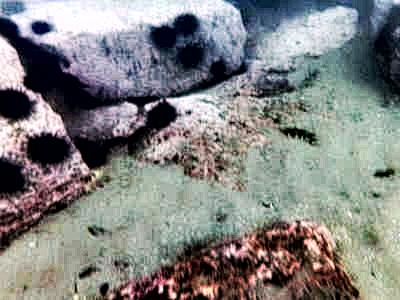urchin: (21, 132, 66, 165), (1, 155, 28, 197), (75, 136, 104, 166), (145, 99, 176, 127), (3, 87, 28, 118), (172, 12, 198, 38), (178, 45, 202, 65), (153, 28, 173, 49), (2, 17, 21, 38), (22, 73, 42, 91), (31, 21, 52, 33), (210, 61, 222, 73)
